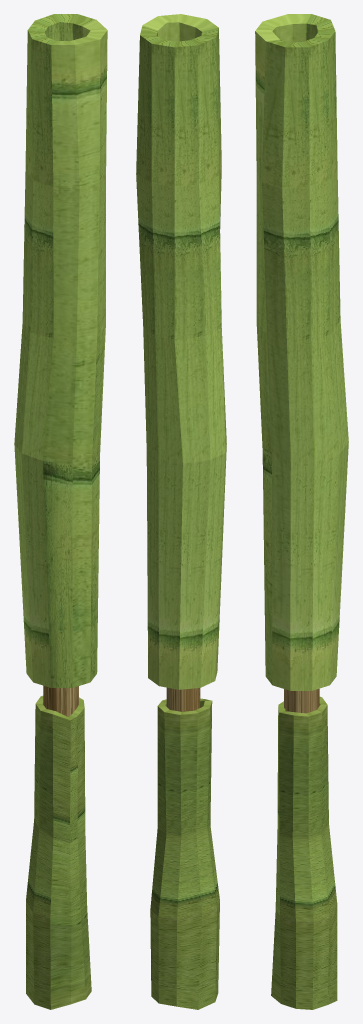
File: Pletokan.fbx
The picture shows the model from 3 angles, left to right: view 1: azimuth 90°, elevation 25°; view 2: azimuth 210°, elevation 25°; view 3: azimuth 270°, elevation 25°; orthographic projection.
Parts seen in each view (by area): view 1: Cylinder.001, Cylinder.002, Cylinder; view 2: Cylinder.001, Cylinder.002, Cylinder; view 3: Cylinder.001, Cylinder.002, Cylinder.
Boxes of the visible parts, x1,y1,x2,y2 form: Cylinder.001: (14, 14, 107, 687); Cylinder.002: (26, 695, 91, 1009); Cylinder: (43, 685, 78, 716); Cylinder.001: (136, 14, 226, 689); Cylinder.002: (150, 698, 219, 1009); Cylinder: (166, 687, 200, 711); Cylinder.001: (255, 14, 348, 690); Cylinder.002: (271, 696, 337, 1009); Cylinder: (284, 688, 319, 713).
Size of the model in its own units: 9.91 by 127 by 11.1.
Materials: 3 (3 with a texture image).
